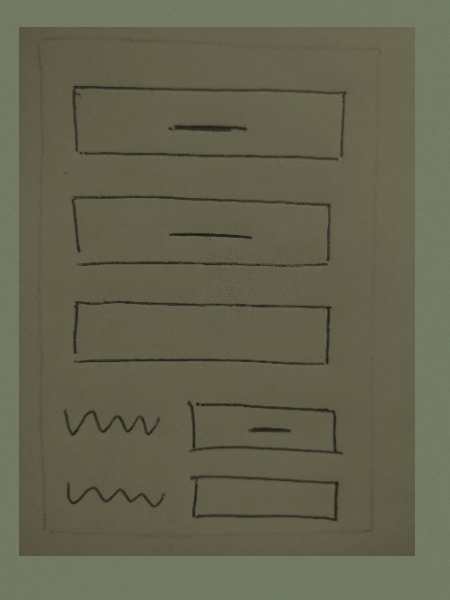button: (62, 184, 343, 279), (67, 78, 347, 173), (182, 395, 344, 463)
text: (54, 391, 164, 443), (60, 470, 170, 522)
text_input: (64, 294, 336, 377), (187, 470, 343, 526)
